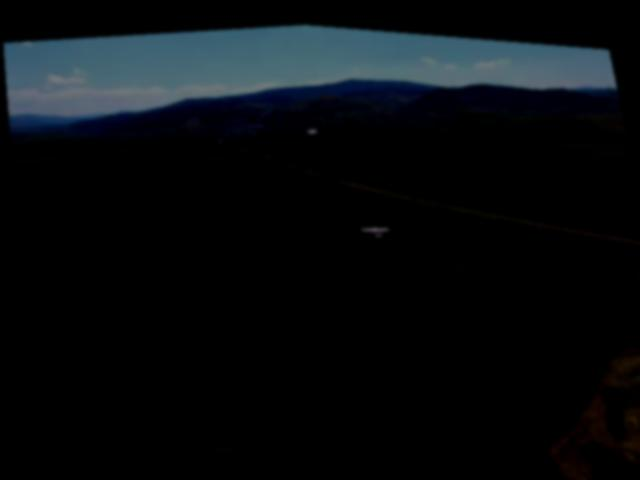uav: (352, 206, 394, 239)
